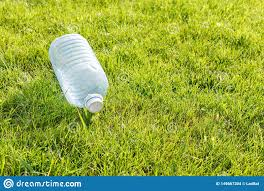plastic_bottle: (49, 33, 108, 113)
